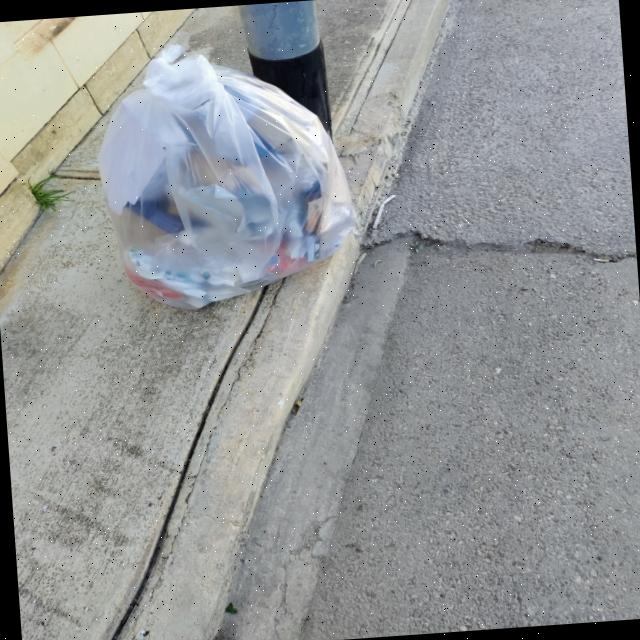Recyclable Material: (86, 28, 372, 320)
